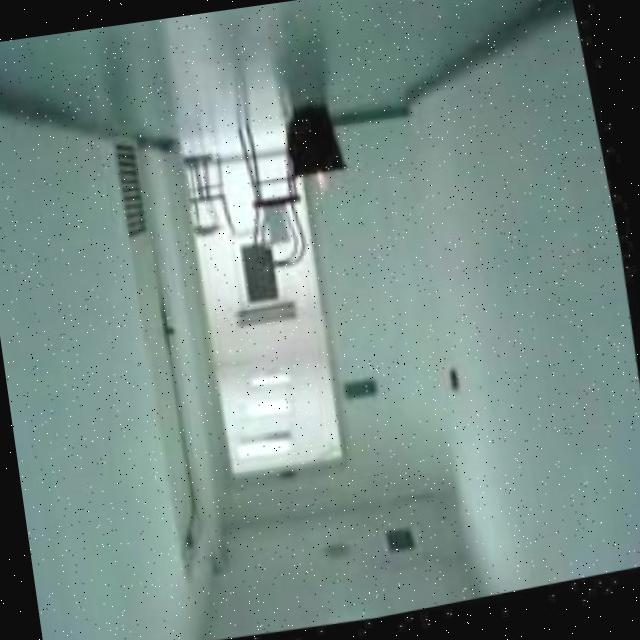fire: (304, 173, 335, 203)
